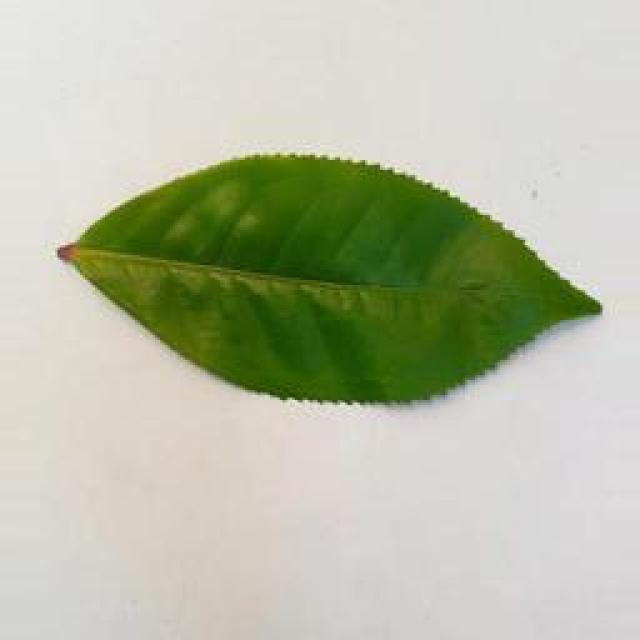Healthy: (35, 138, 640, 402)
